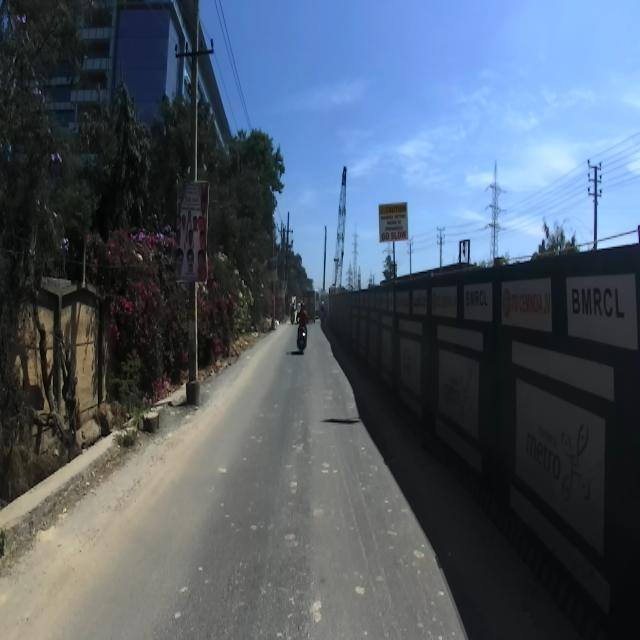barrier ahead at: (337, 242, 636, 618)
electric pole ahead at: (174, 0, 218, 427)
